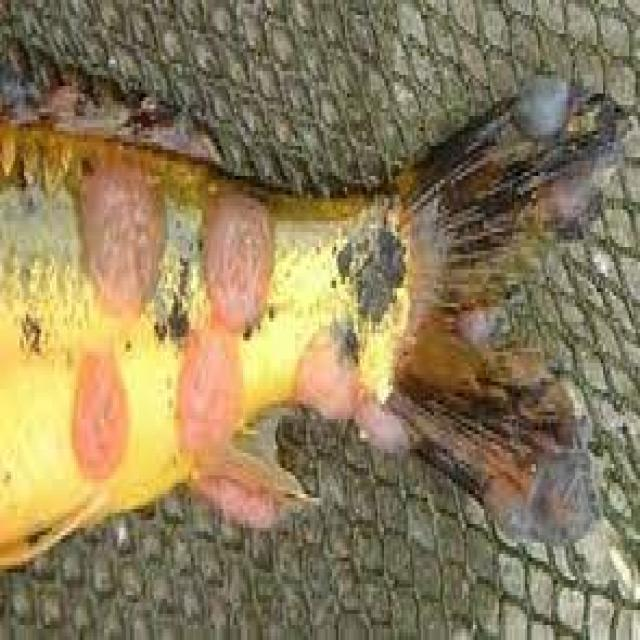EUS Disease: (0, 61, 602, 552)
